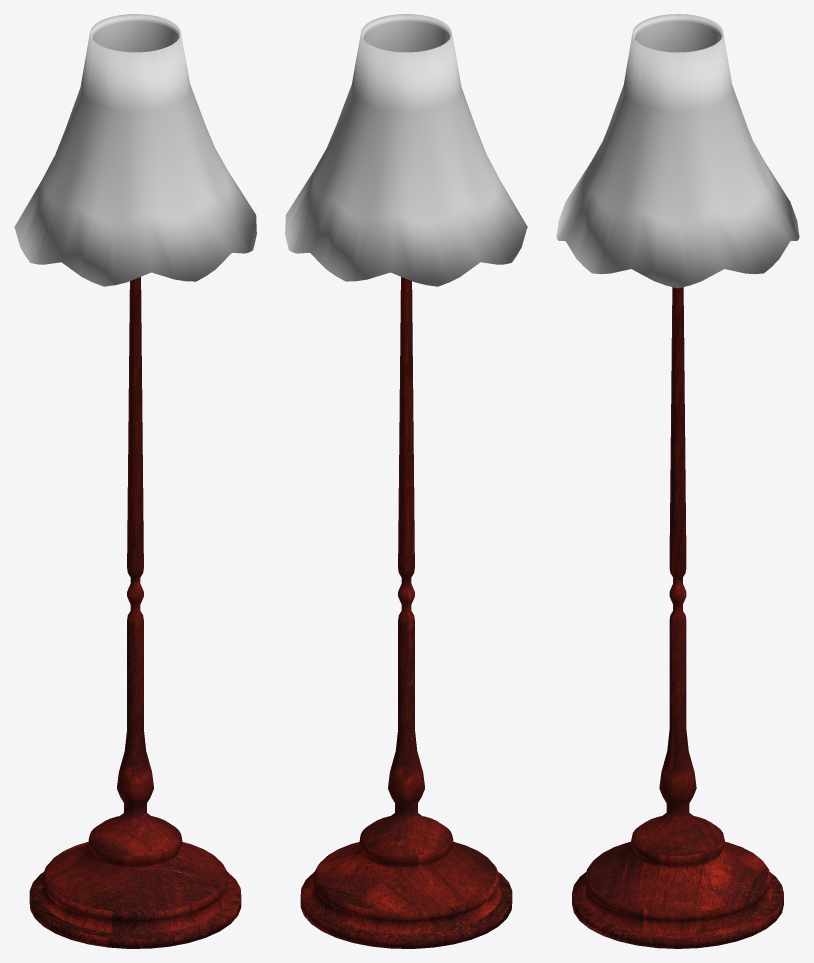
Rendered from luxuriously-floorlamp.fbx.
3 views of the same model, side by side, from view 1: azimuth 30°, elevation 25°; view 2: azimuth 150°, elevation 25°; view 3: azimuth 270°, elevation 25° (orthographic).
Parts seen in each view (by area): view 1: Circle.001; view 2: Circle.001; view 3: Circle.001.
Boxes of the visible parts, x1,y1,x2,y2 form: Circle.001: (14,14,256,948); Circle.001: (285,14,527,948); Circle.001: (556,14,799,948).
Size of the model in its own units: 58.59 by 231 by 58.59.
